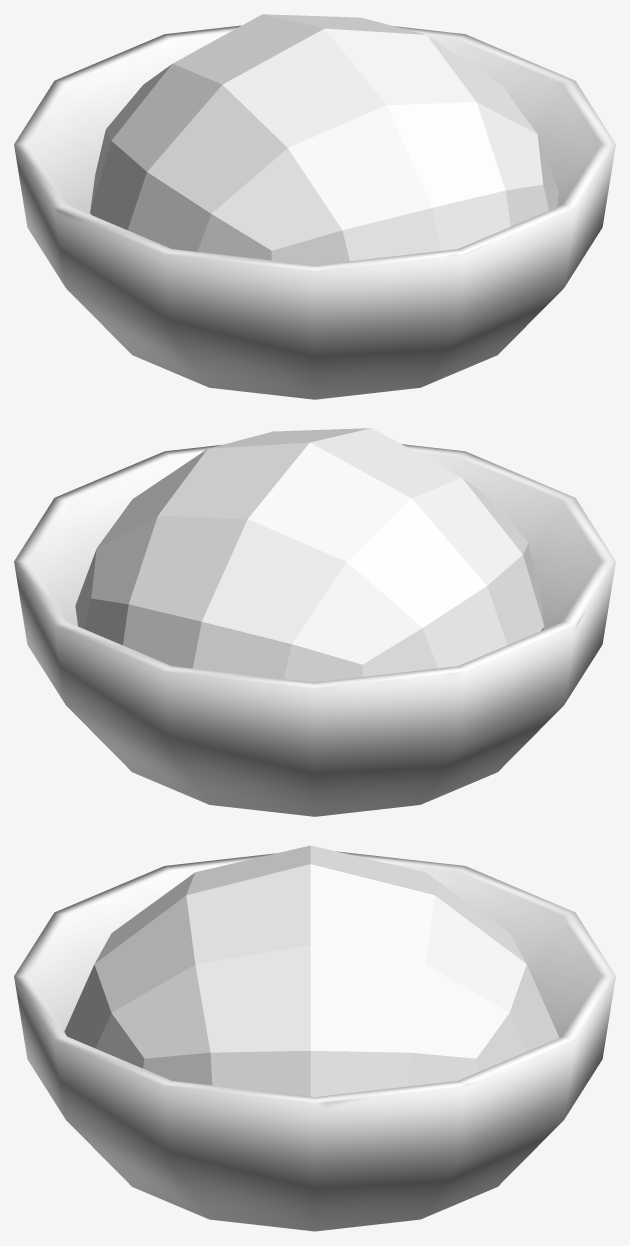
The model's file is rice.gltf.
3 views of the same model, one above another, from view 1: azimuth 30°, elevation 25°; view 2: azimuth 150°, elevation 25°; view 3: azimuth 270°, elevation 25° (orthographic).
Visible parts, largest first — view 1: kimchbowl, Cube; view 2: kimchbowl, Cube; view 3: kimchbowl, Cube.
Part boxes in pixels (box(x1,y1,x2,y2)): kimchbowl: box(14, 25, 615, 399); Cube: box(90, 14, 558, 265); kimchbowl: box(14, 444, 615, 816); Cube: box(75, 428, 544, 682); kimchbowl: box(14, 851, 615, 1231); Cube: box(64, 845, 558, 1096).
Size of the model in its own units: 0.2783 by 0.1437 by 0.2783.
Materials: 2 (1 with a texture image).
